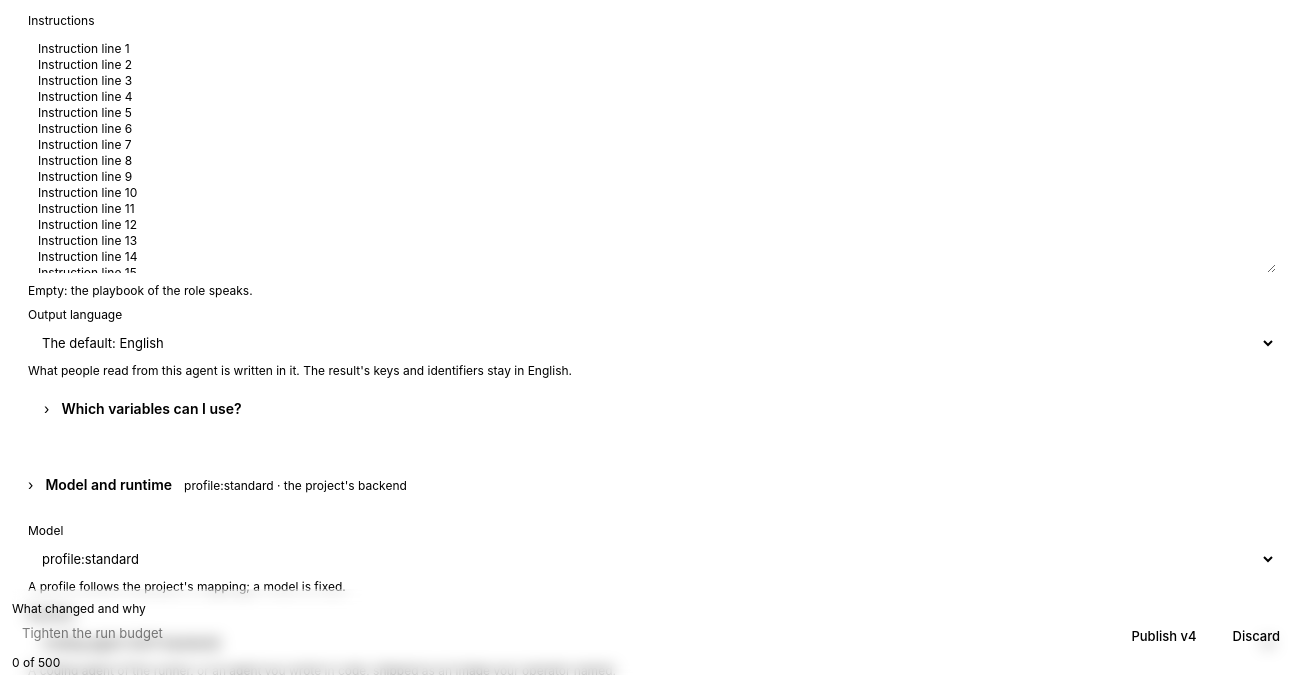
Test: the editor › says nothing changed when the server answers no_change
Type "Same" into the field labelled "What changed and why". click: (560, 633)
box: [12,617,1108,649]
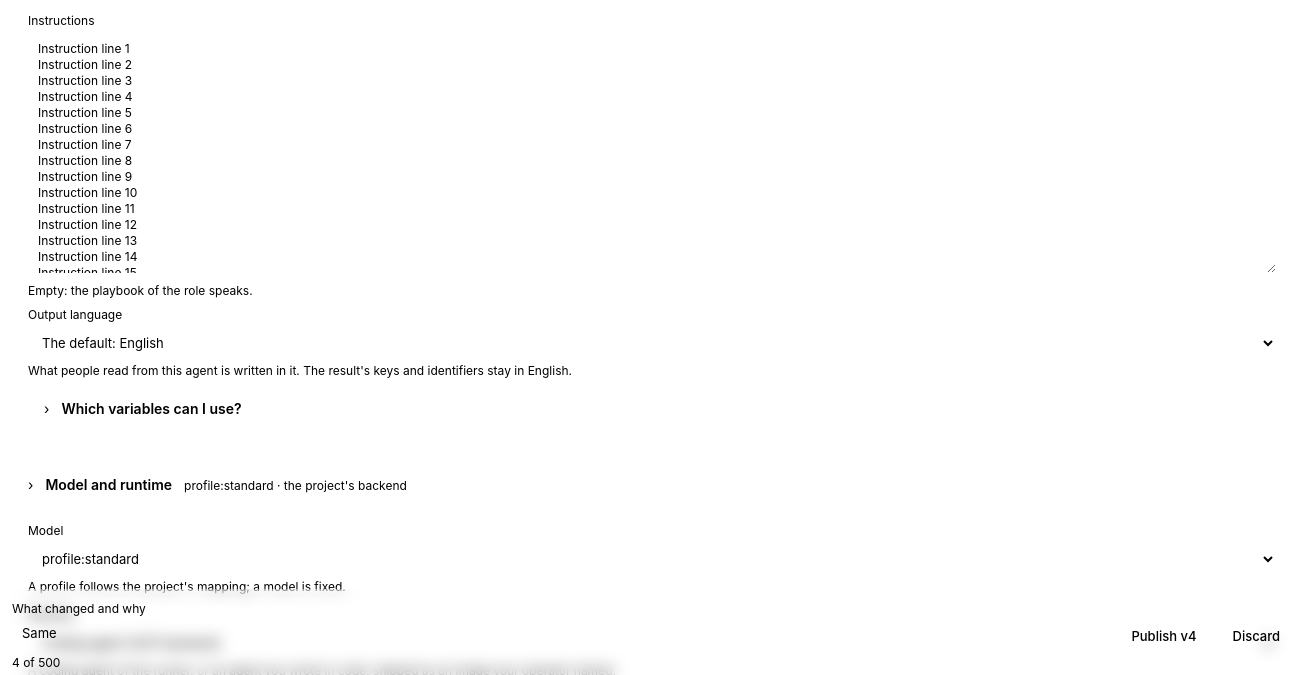
Click the button "Publish v4". click: (1164, 637)
box: [1120,621,1208,653]
(page scrolled)
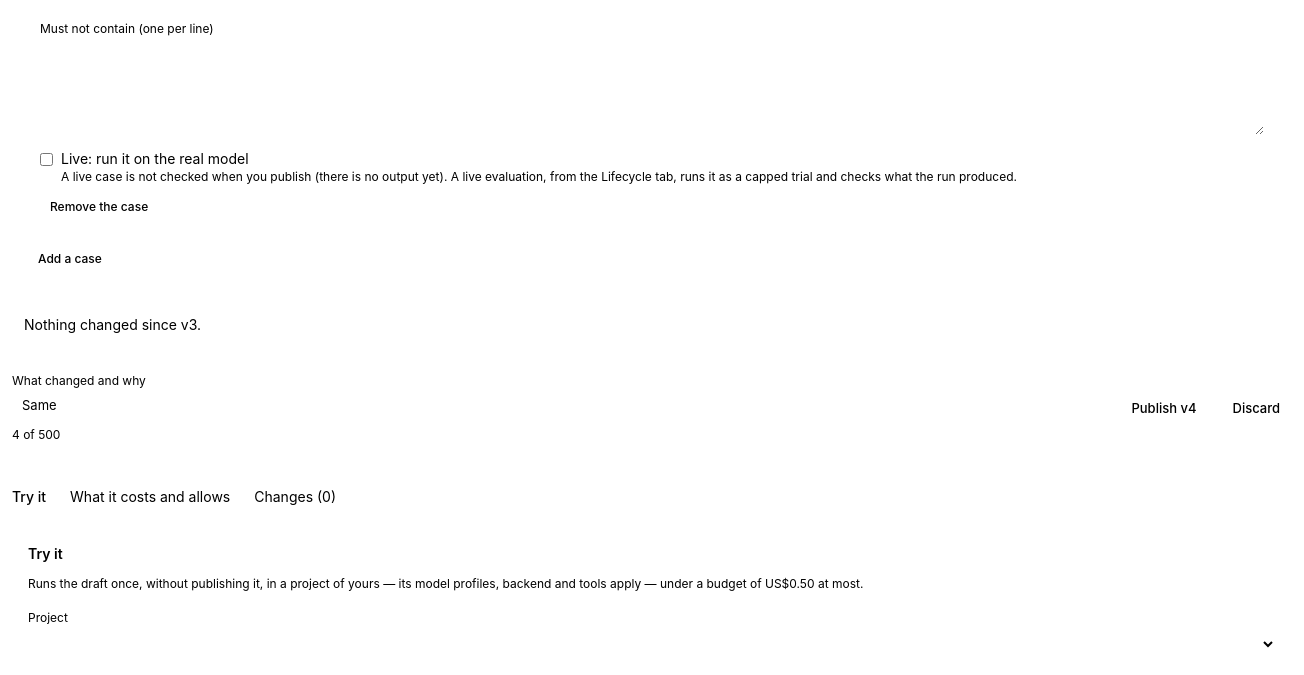
Check: the text "Nothing changed since v3." is shown, box [24,316,201,333]
